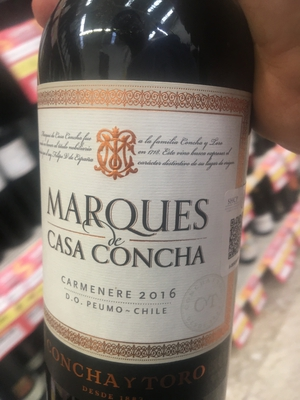marques de casa concha carmenere: (35, 13, 254, 399)
